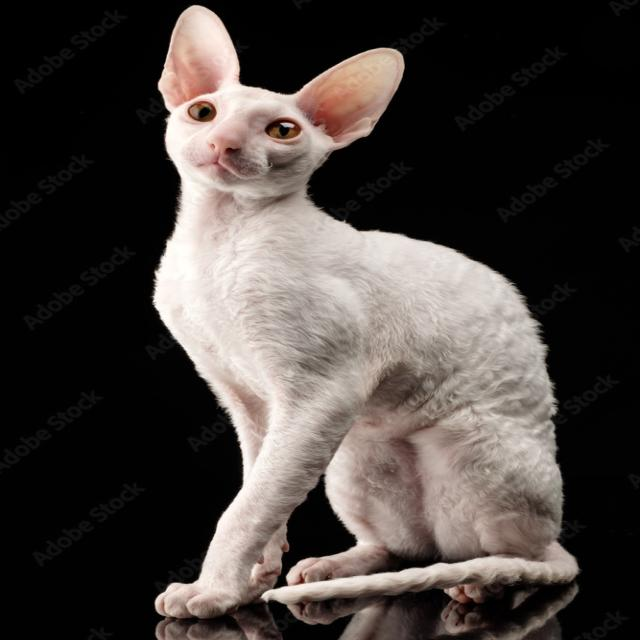Cornish Rex: (141, 0, 585, 624)
